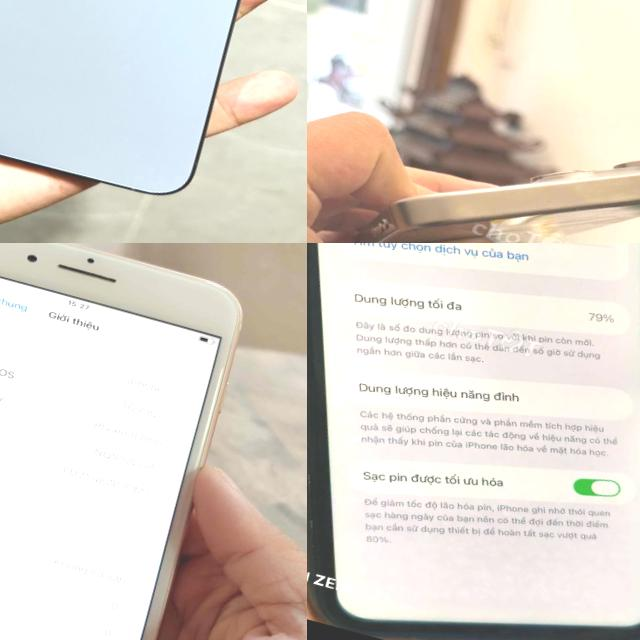gen_11: (307, 243, 640, 640)
gen_12_13: (0, 0, 307, 218)
gen_15: (325, 59, 640, 243)
gen_7_8: (0, 243, 261, 640)
scratch: (190, 358, 233, 472)
